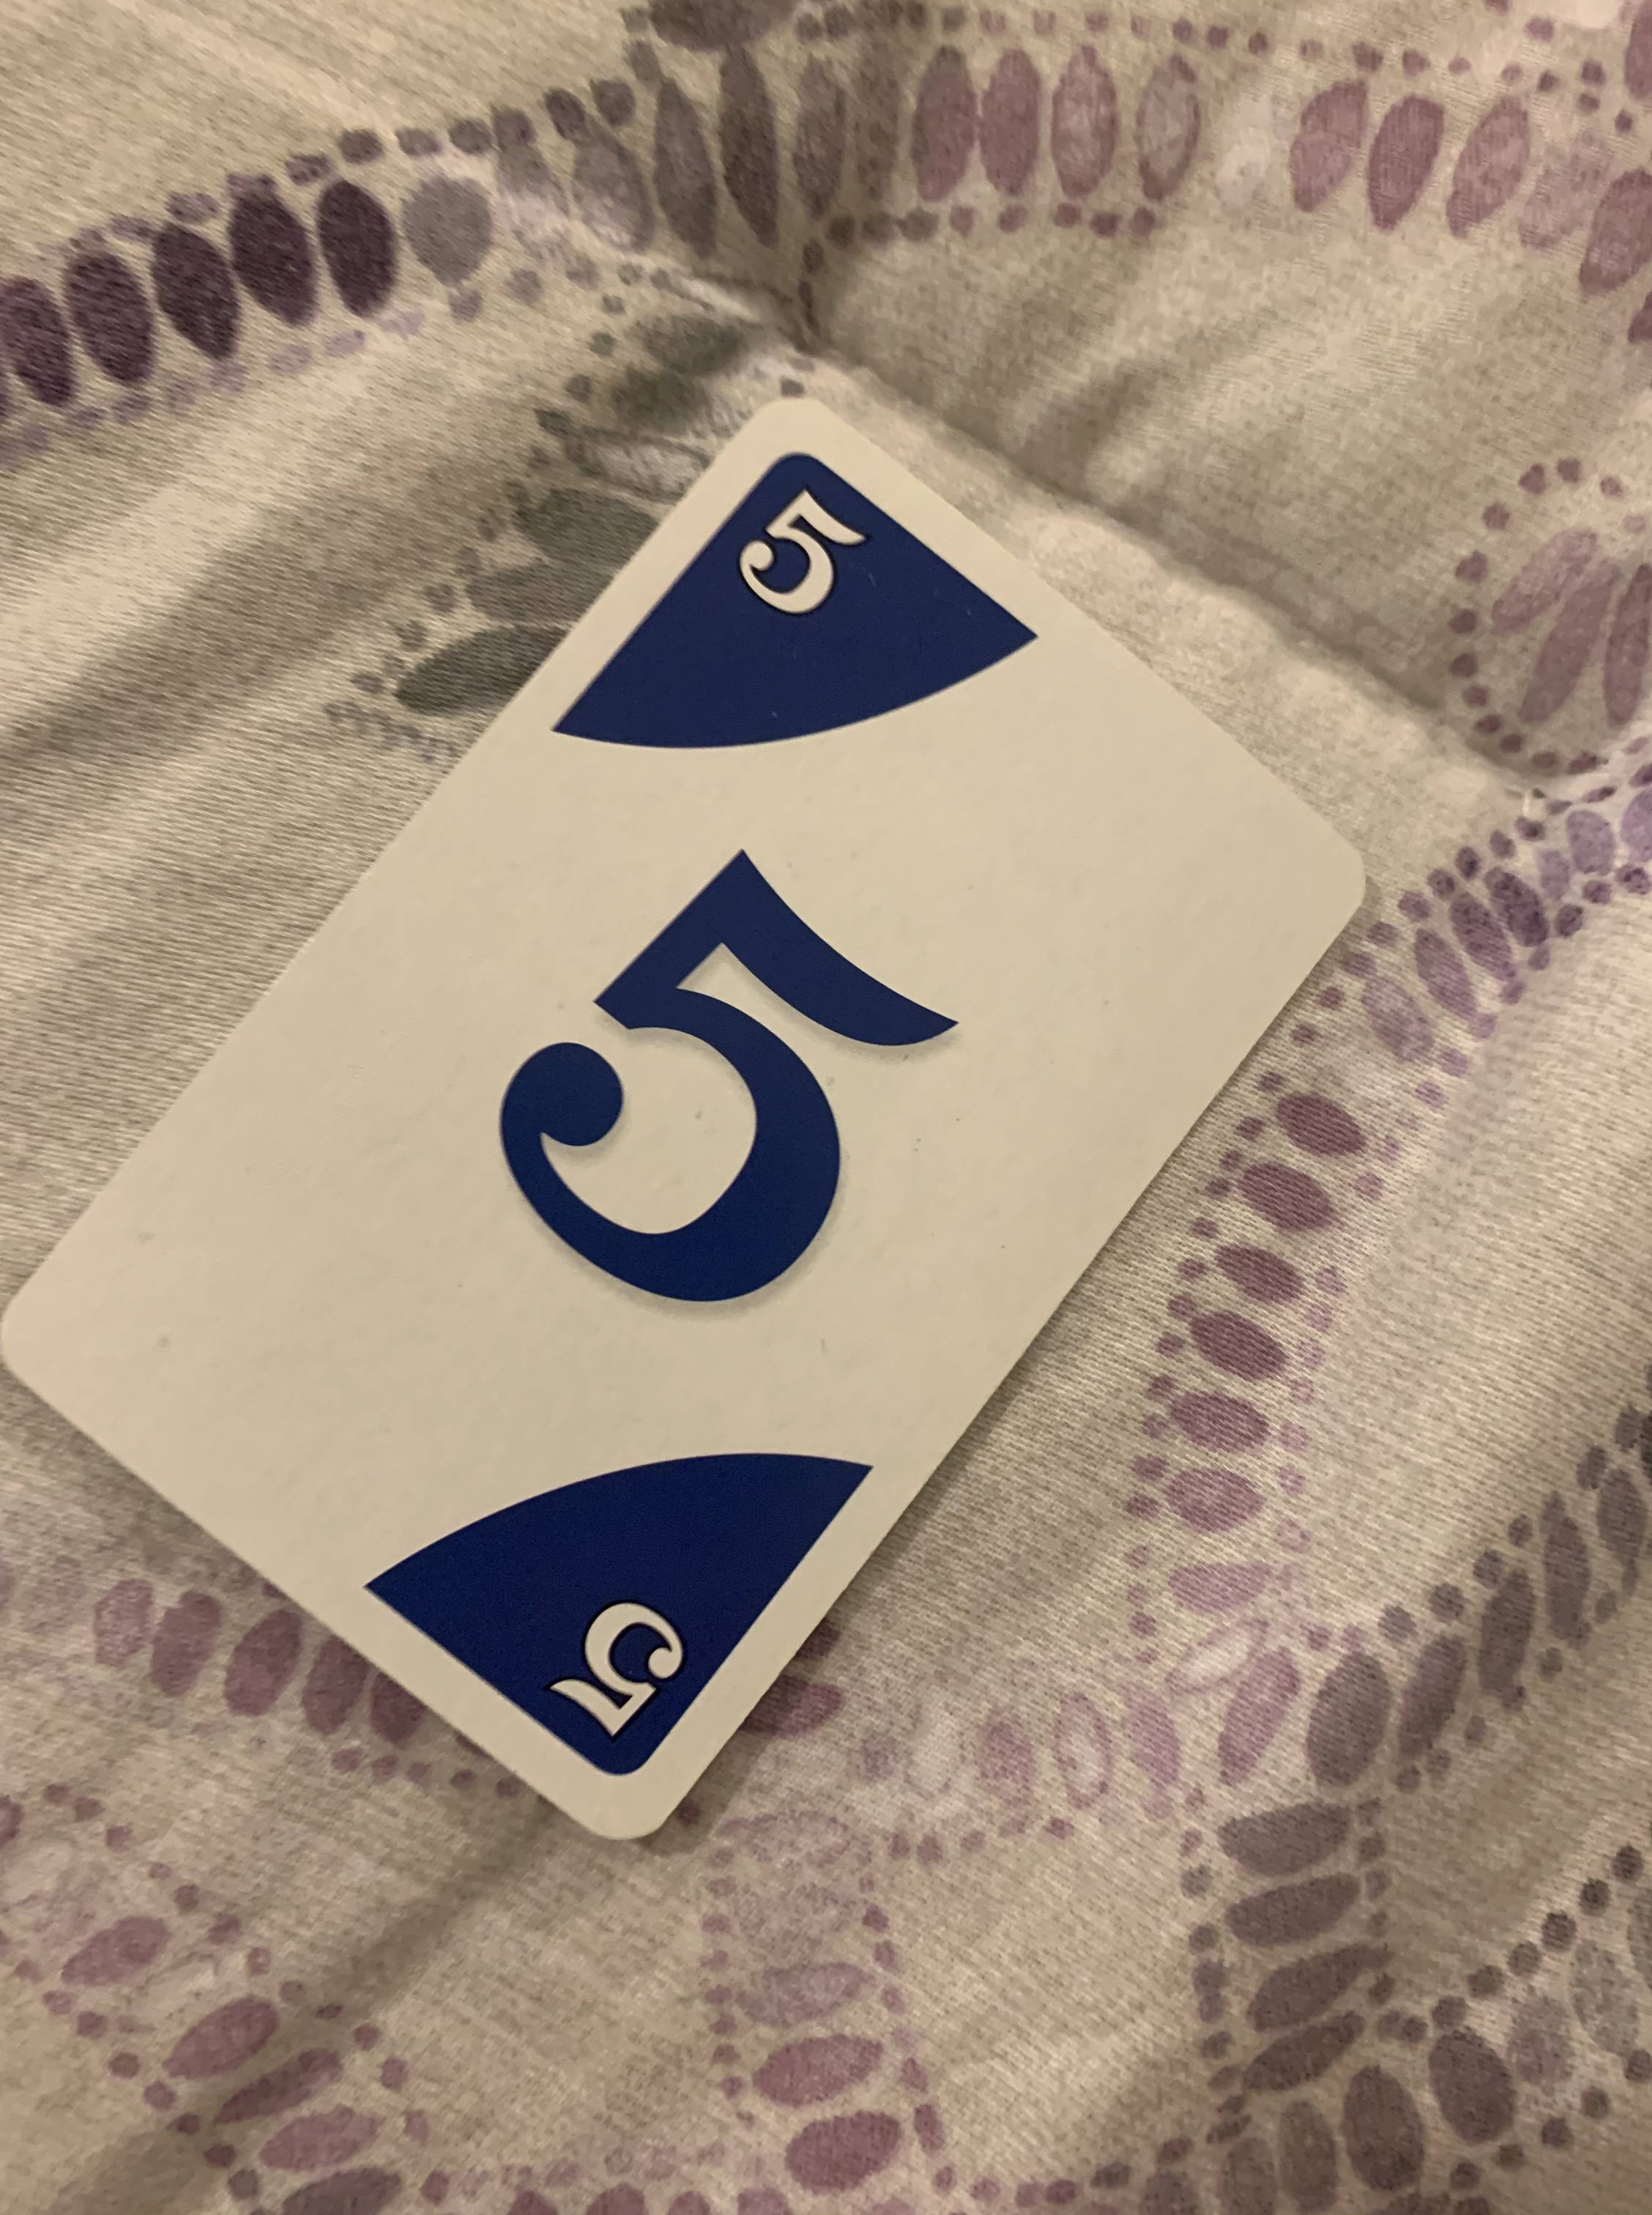five: (0, 385, 1374, 1850)
